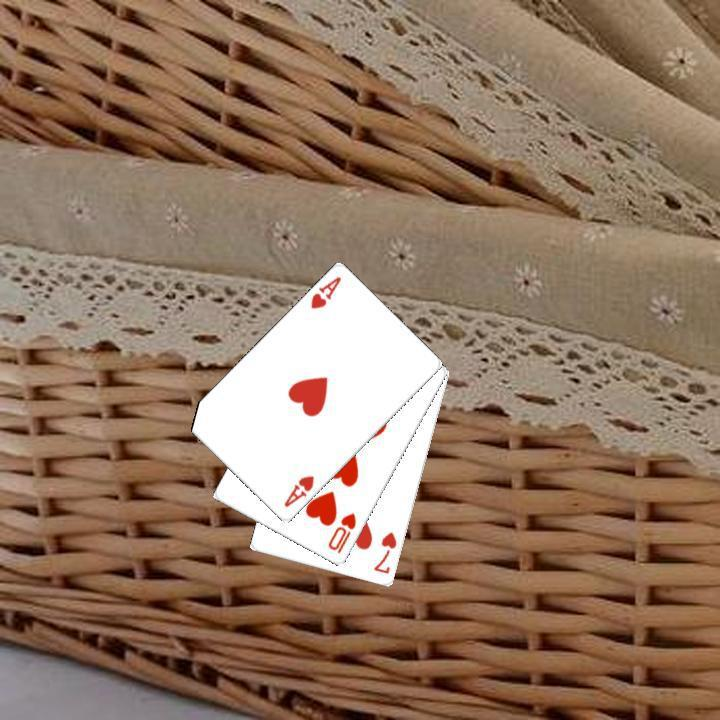10: (324, 509, 358, 556)
7: (369, 528, 399, 576)
A: (279, 471, 316, 510), (306, 272, 343, 311)
